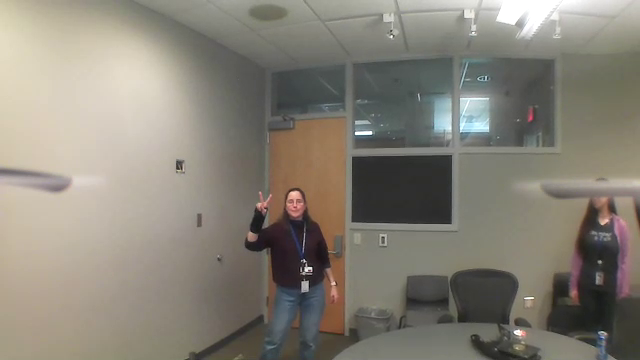peace: (252, 189, 277, 219)
